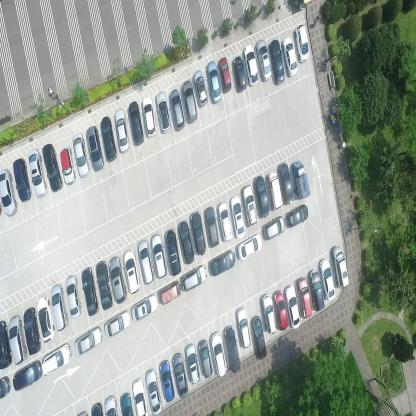car: (7, 314, 29, 365), (42, 142, 63, 194), (40, 342, 72, 376), (80, 265, 100, 317), (50, 282, 70, 333), (95, 259, 114, 311), (28, 148, 47, 199), (209, 328, 228, 378), (108, 255, 127, 304), (36, 295, 55, 344), (23, 307, 42, 356), (71, 132, 90, 180), (163, 228, 182, 276), (268, 36, 286, 86), (223, 324, 241, 373), (12, 157, 32, 201), (74, 326, 103, 356), (13, 360, 42, 390), (154, 88, 172, 136), (86, 124, 104, 172), (331, 245, 350, 290), (0, 167, 18, 214), (122, 250, 141, 294), (318, 258, 336, 304), (283, 283, 301, 328), (254, 171, 271, 218), (130, 294, 158, 322), (278, 160, 295, 206), (189, 210, 206, 256), (177, 219, 194, 265), (65, 273, 82, 319), (250, 314, 267, 360), (171, 352, 188, 398), (145, 368, 162, 414), (237, 231, 263, 261), (181, 79, 198, 124), (292, 158, 310, 200), (104, 310, 131, 338), (260, 292, 278, 334), (210, 248, 236, 277), (229, 192, 245, 239), (137, 239, 154, 283), (272, 290, 290, 331), (169, 88, 185, 134), (128, 100, 144, 146), (100, 114, 116, 160), (158, 358, 174, 404), (150, 234, 167, 277), (181, 265, 208, 292), (141, 96, 157, 141), (113, 107, 129, 152), (243, 42, 259, 86), (206, 60, 222, 104), (308, 268, 324, 312), (297, 275, 313, 319), (256, 38, 272, 81), (282, 35, 298, 77), (267, 169, 283, 211), (235, 306, 251, 348), (184, 342, 200, 384), (0, 319, 13, 369), (218, 199, 233, 242), (60, 146, 76, 186), (132, 375, 148, 415), (204, 204, 219, 246), (197, 337, 212, 379), (294, 25, 310, 64), (192, 70, 208, 108), (243, 184, 258, 224), (286, 204, 309, 229), (232, 54, 247, 92), (218, 55, 232, 95), (158, 281, 180, 305), (262, 218, 285, 240), (120, 389, 133, 415), (104, 394, 118, 416), (0, 374, 9, 399)
